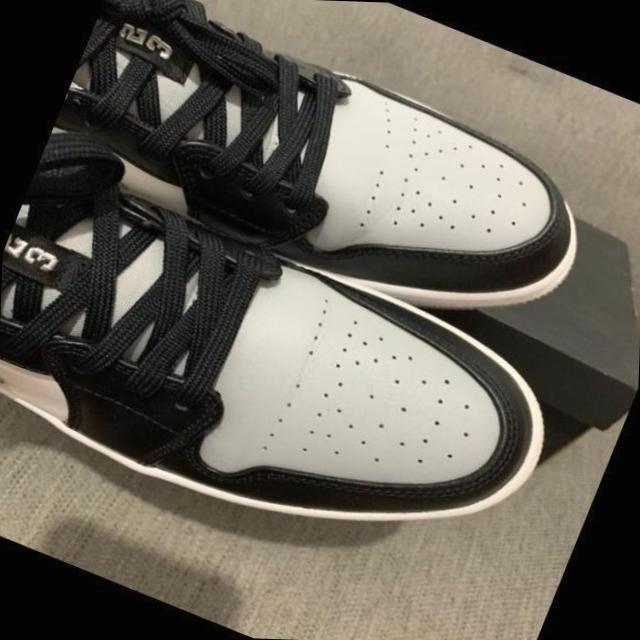nike_fake_jordan: (0, 154, 586, 613), (33, 0, 620, 364)
